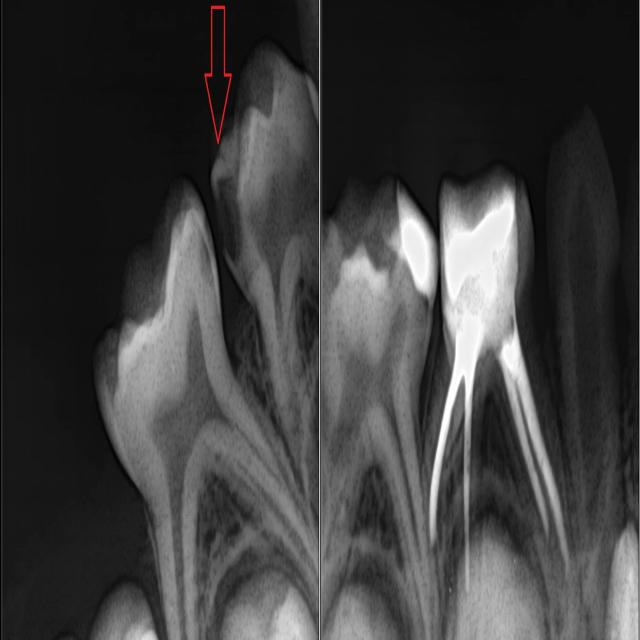Caries: (209, 150, 318, 440)
